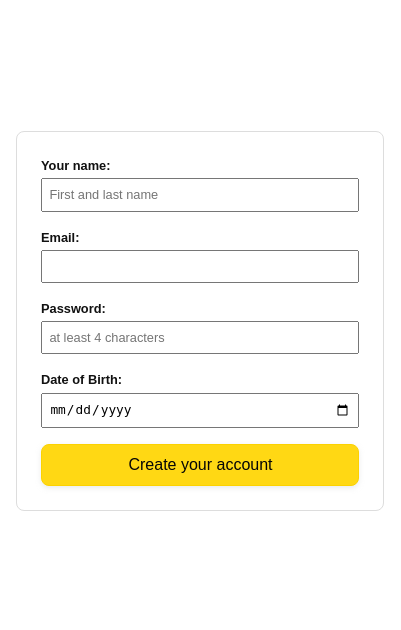
Test: Successful registration › User is able to fill registration form and seeing a successful message
Type "test" into the field with id "username" at (200,195), box [41,178,359,211]
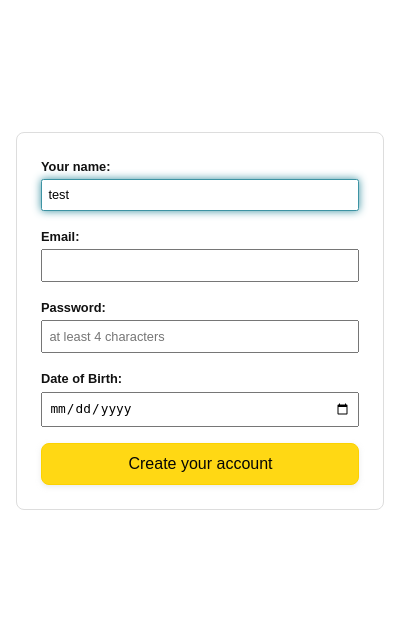
Type "mindaugas@mindaugas.com" into the field with id "email" at (200,266), box [41,249,359,282]
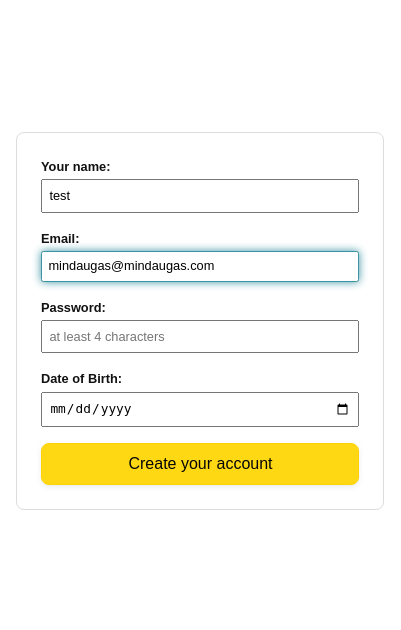
Type "mind" into the password field labelled "Password:" at (200,337), box [41,320,359,353]
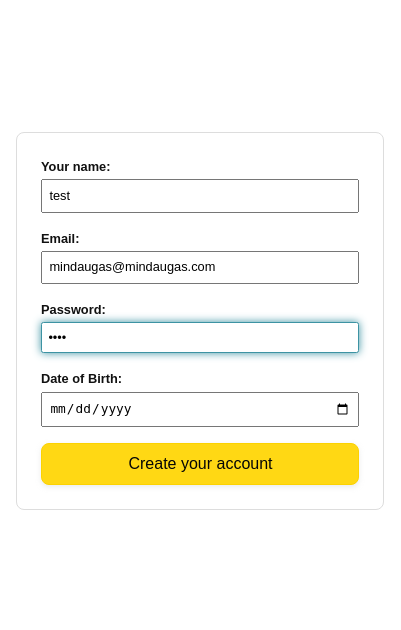
Type "2000-06-01" into the date field with id "dob" at (200,410), box [41,392,359,427]
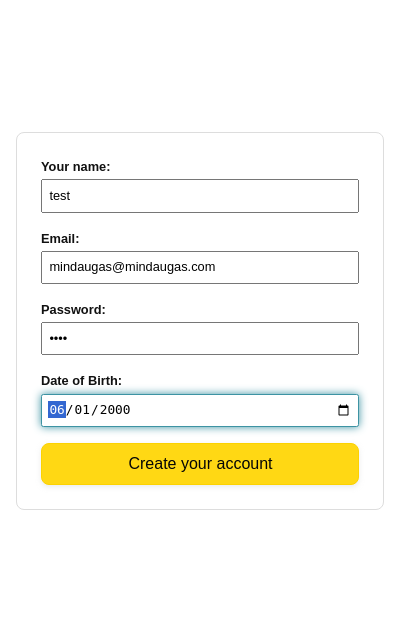
Click the button "Create your account" at (200,464), box [41,443,359,485]
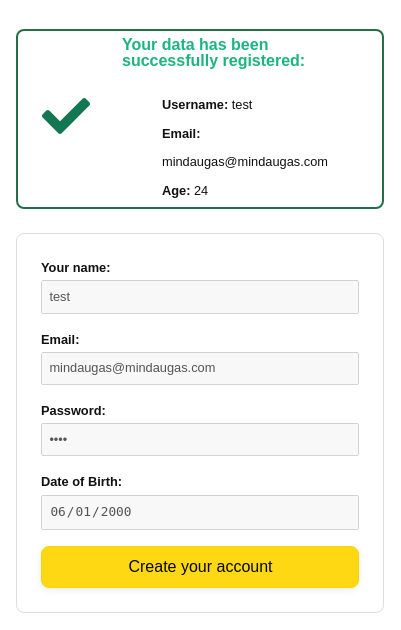
Check: the element with id "successful" is shown, box [122,16,358,222]
Check: the heading "Your data has been successfully registered:" is shown, box [122,36,305,70]
Check: the list item "Username: test" is shown, box [162,97,252,112]
